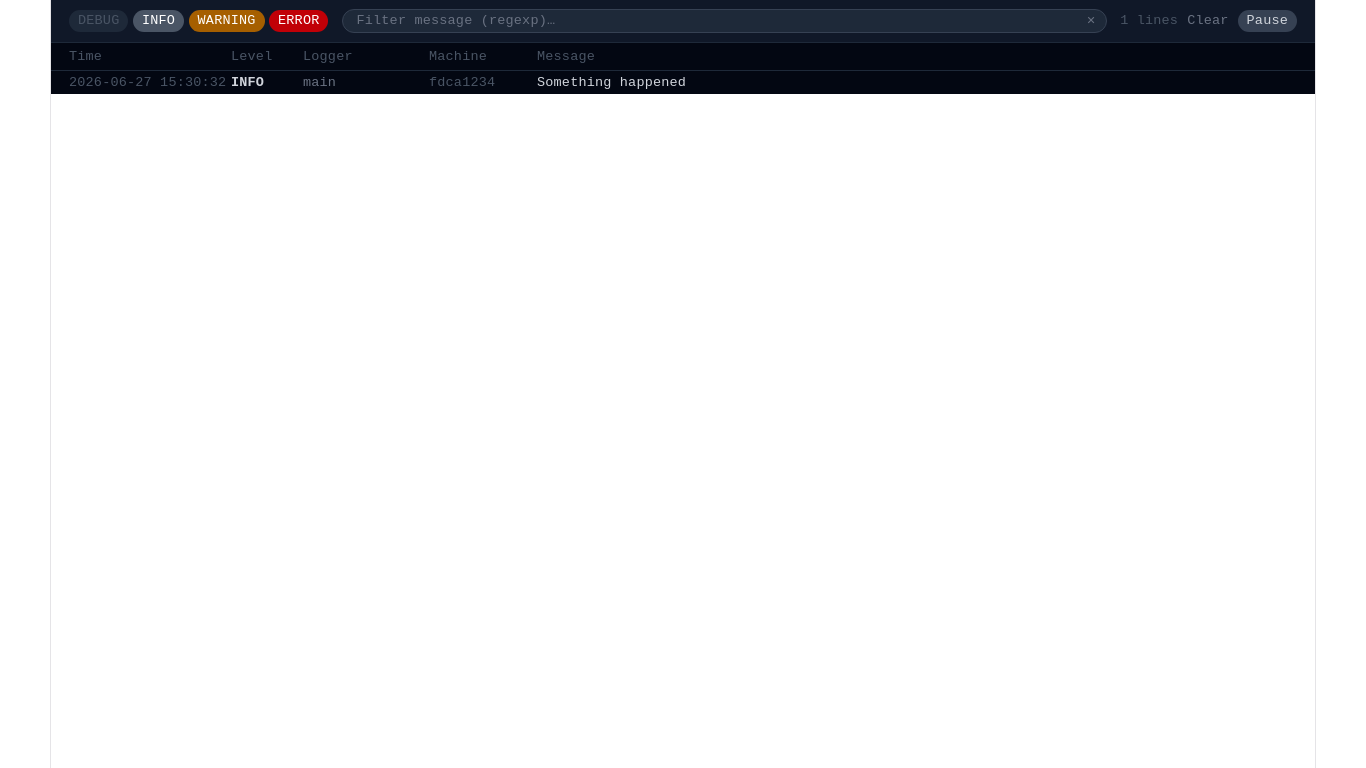
Test: LogViewer › clears all entries when Clear is clicked
The image size is (1366, 768).
Check: the text "Something happened" is shown, box [537,75,686,90]
Click the button "Clear" at [1208, 21], box [1187,12,1229,30]
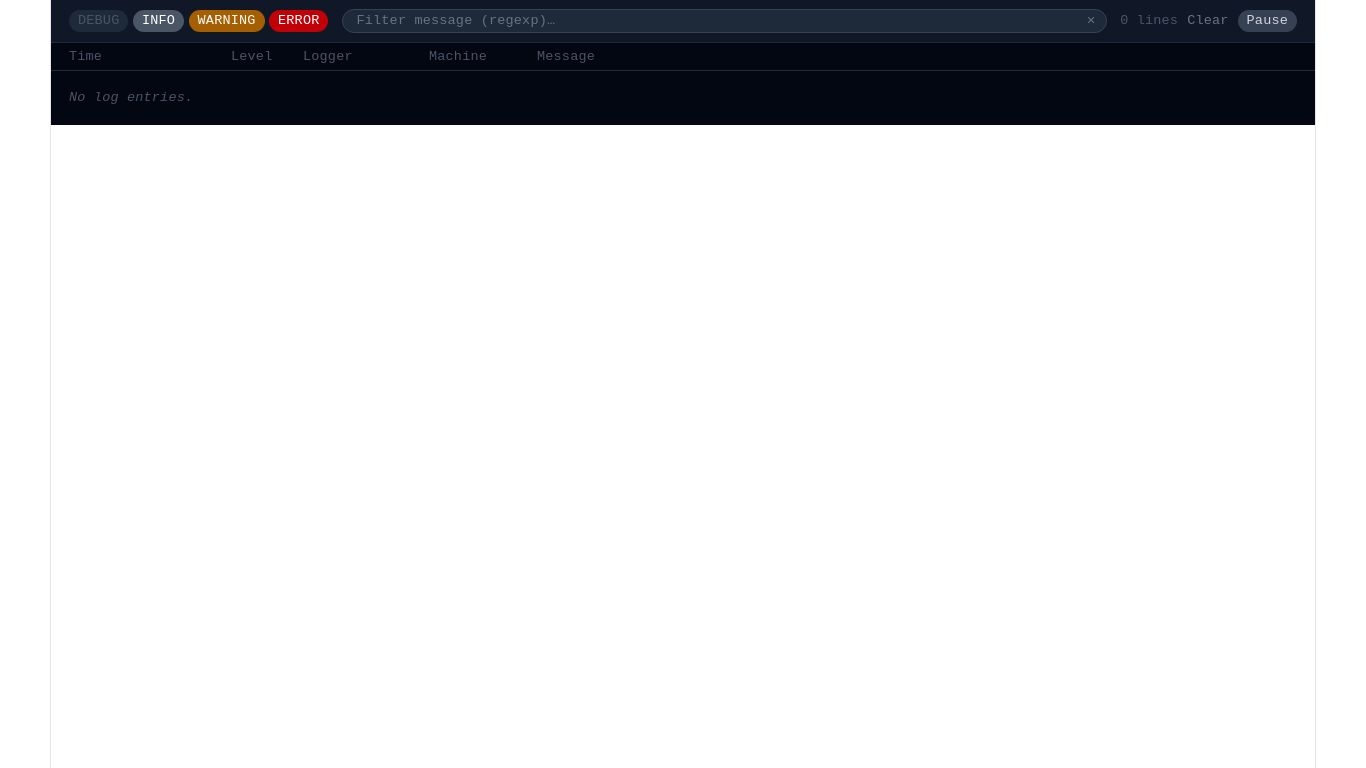
Check: the text "Something happened" is gone
Check: the text "No log entries." is shown, box [69,90,193,106]
